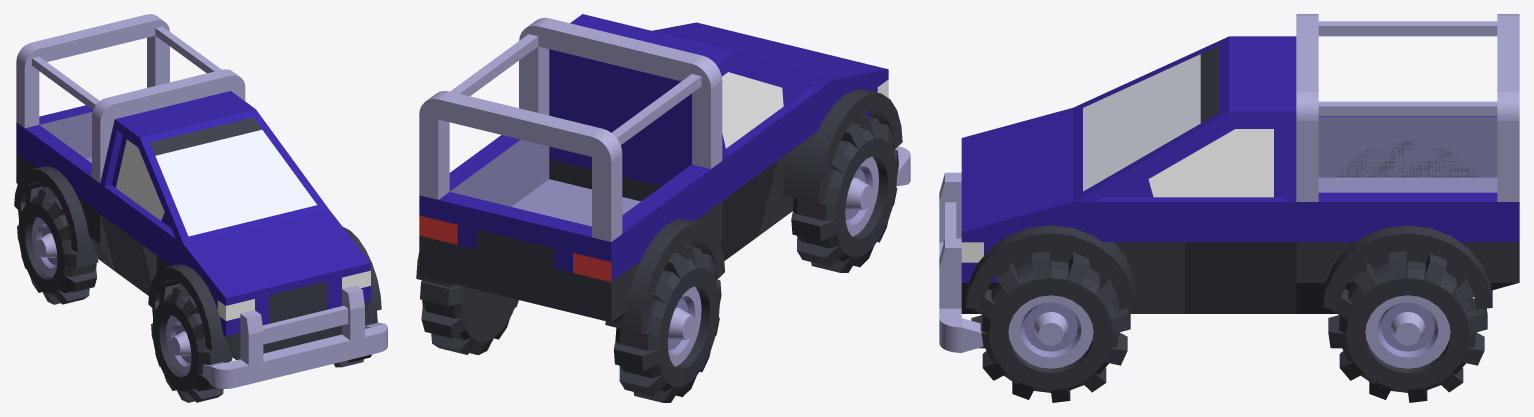
Rendered from Player_Car 2.fbx.
3 renders of one model, left to right at view 1: azimuth 30°, elevation 25°; view 2: azimuth 150°, elevation 25°; view 3: azimuth 270°, elevation 25°, orthographic. The views are drawn at different scales.
Parts seen in each view (by area): view 1: body_topSports, body_frontTruckShort, wheel_ridges (×3), detail_rollbarLarge, bumper_large, body_backBedClosed, wheel_coverStandard (×3), body_sports; view 2: body_backBedClosed, wheel_ridges (×3), detail_rollbarLarge, body_topSports, body_sports, wheel_coverStandard (×2), body_frontTruckShort, bumper_large; view 3: wheel_ridges (×2), body_topSports, body_backBedClosed, body_sports, detail_rollbarLarge, body_frontTruckShort, wheel_coverStandard (×3), bumper_large.
Boxes of the visible parts, x1=… form: body_topSports: x1=100, y1=91, x2=328, y2=244; body_frontTruckShort: x1=184, y1=209, x2=370, y2=359; wheel_ridges (×3): x1=17, y1=186, x2=377, y2=402; detail_rollbarLarge: x1=16, y1=14, x2=245, y2=183; bumper_large: x1=203, y1=285, x2=387, y2=388; body_backBedClosed: x1=16, y1=105, x2=114, y2=270; wheel_coverStandard (×3): x1=14, y1=166, x2=381, y2=350; body_sports: x1=100, y1=184, x2=183, y2=295; body_backBedClosed: x1=419, y1=135, x2=722, y2=322; wheel_ridges (×3): x1=420, y1=115, x2=898, y2=402; detail_rollbarLarge: x1=419, y1=17, x2=722, y2=241; body_topSports: x1=549, y1=14, x2=832, y2=160; body_sports: x1=549, y1=80, x2=832, y2=260; wheel_coverStandard (×2): x1=605, y1=89, x2=902, y2=333; body_frontTruckShort: x1=652, y1=22, x2=888, y2=123; bumper_large: x1=895, y1=146, x2=910, y2=186; wheel_ridges (×2): x1=971, y1=251, x2=1487, y2=402; body_topSports: x1=1073, y1=36, x2=1296, y2=201; body_backBedClosed: x1=1296, y1=116, x2=1519, y2=313; body_sports: x1=1073, y1=197, x2=1296, y2=313; detail_rollbarLarge: x1=1296, y1=14, x2=1519, y2=201; body_frontTruckShort: x1=961, y1=108, x2=1073, y2=313; wheel_coverStandard (×3): x1=966, y1=141, x2=1492, y2=309; bumper_large: x1=939, y1=172, x2=983, y2=352.
Bounding box in the file's own units: 12.33 × 14.58 × 26.
